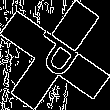P_SE: (24, 26, 86, 84)
